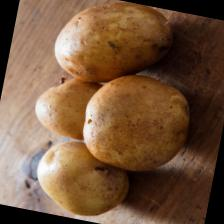potato: (76, 65, 198, 179), (48, 0, 179, 96), (30, 133, 138, 223), (30, 69, 126, 146)
